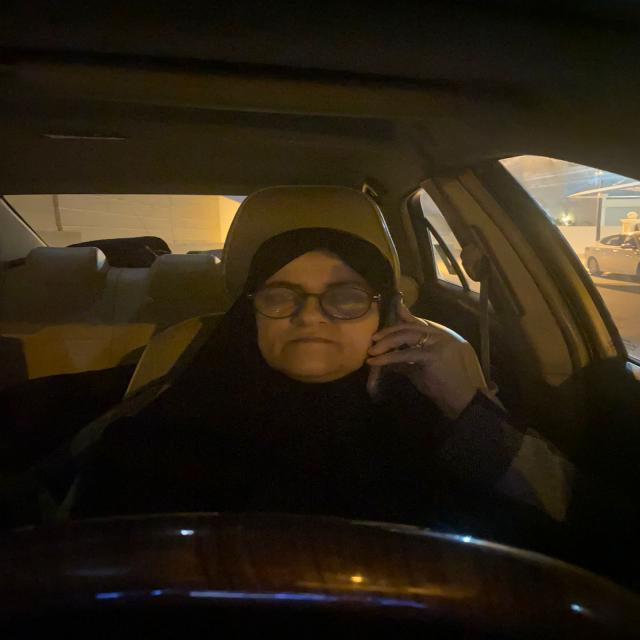mobile: (361, 282, 400, 409)
person: (237, 218, 407, 394)
